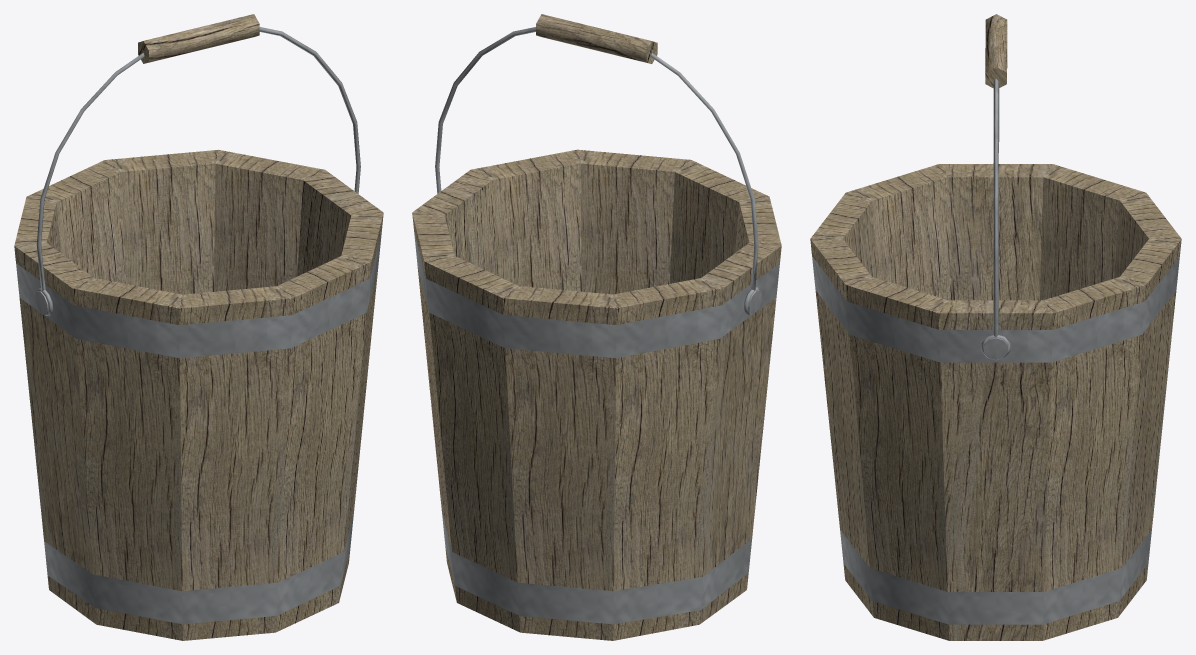
The model's file is Emmer_100_99_100.dae.
3 views of the same model, side by side, from view 1: azimuth 30°, elevation 25°; view 2: azimuth 150°, elevation 25°; view 3: azimuth 270°, elevation 25° (orthographic).
Parts seen in each view (by area): view 1: mesh0%root%1%, mesh0%root%0%, mesh1%Handvat%0%, mesh2%Hengsel%0%; view 2: mesh0%root%1%, mesh0%root%0%, mesh1%Handvat%0%, mesh2%Hengsel%0%; view 3: mesh0%root%1%, mesh0%root%0%, mesh2%Hengsel%0%, mesh1%Handvat%0%.
Part boxes in pixels (x1,y1,x2,y2): mesh0%root%1%: [14, 149, 383, 640]; mesh0%root%0%: [16, 231, 381, 624]; mesh1%Handvat%0%: [138, 14, 259, 63]; mesh2%Hengsel%0%: [36, 27, 360, 316]; mesh0%root%1%: [412, 149, 781, 640]; mesh0%root%0%: [414, 231, 779, 624]; mesh1%Handvat%0%: [536, 14, 657, 63]; mesh2%Hengsel%0%: [435, 27, 758, 315]; mesh0%root%1%: [810, 164, 1181, 640]; mesh0%root%0%: [812, 256, 1179, 624]; mesh2%Hengsel%0%: [981, 79, 1010, 360]; mesh1%Handvat%0%: [985, 14, 1007, 88].
Bounding box in the file's own units: 0.2926 × 0.4741 × 0.2956.
